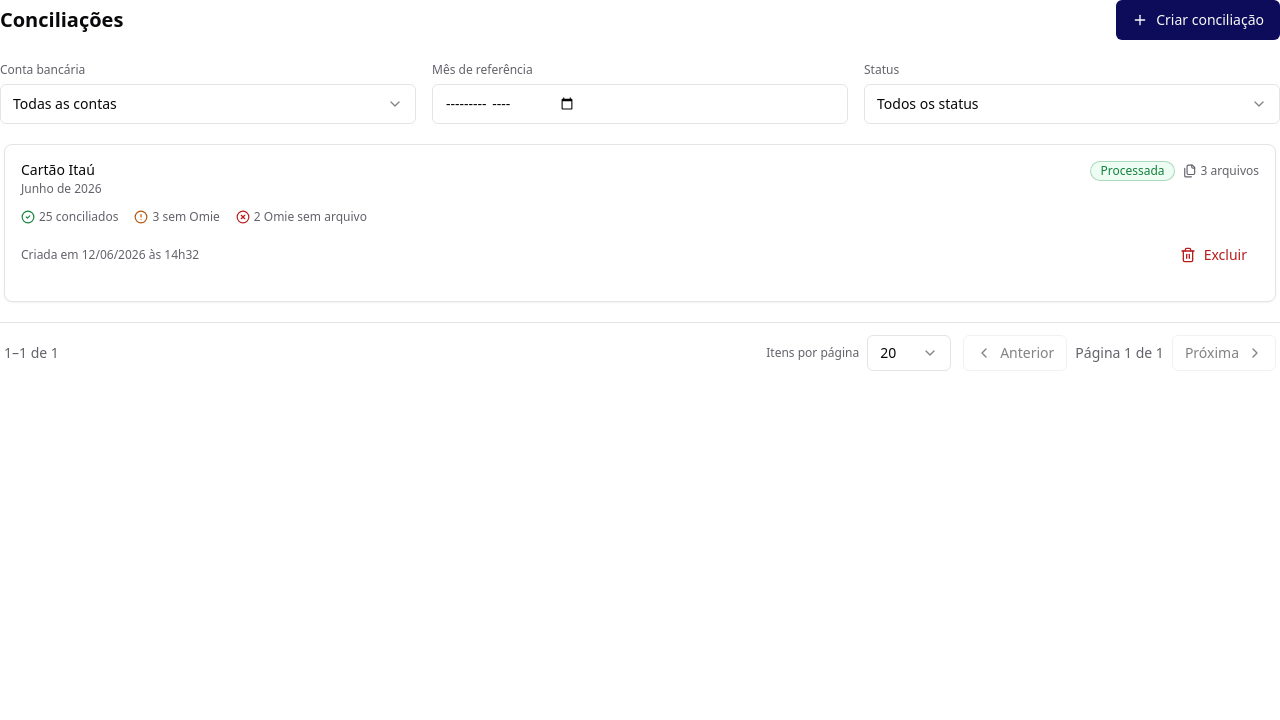
Test case: ReconciliationsList — item da lista › ação interna NÃO dispara a navegação da linha (stopPropagation)
Click the button "Excluir" at (1213, 254), box [1168,236,1259,272]
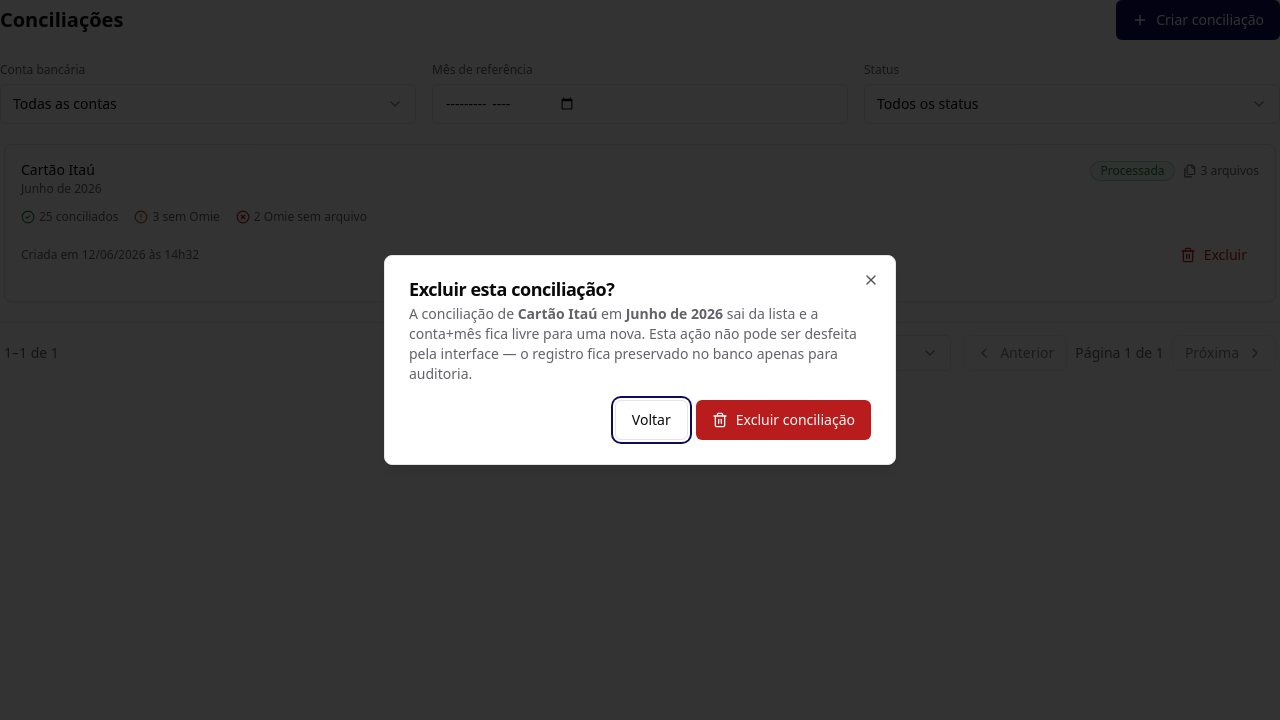
Result: the dialog is shown at [384,255,896,465]
